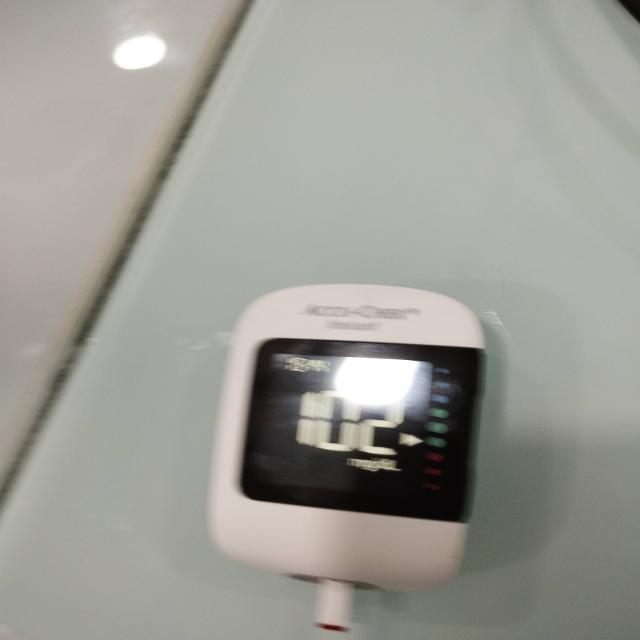gluco: (208, 285, 487, 622)
